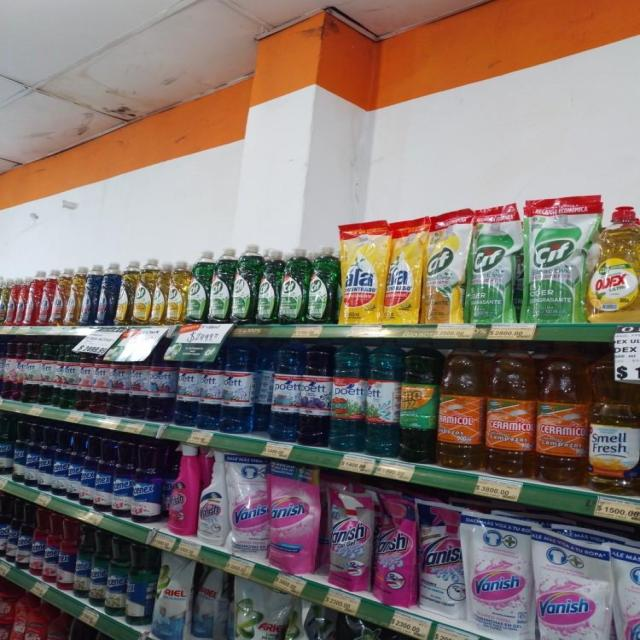ala_conc_amarillo: (66, 265, 81, 326), (0, 276, 7, 326)
ala_conc_azul: (96, 262, 115, 326), (81, 263, 96, 326)
ala_conc_rojo: (52, 267, 66, 326), (38, 268, 52, 326), (18, 272, 30, 326), (26, 270, 36, 326), (8, 274, 18, 326)
ala_sachet_amarillo: (340, 220, 384, 324)
cif_conc_bot_amarilla: (167, 258, 186, 325), (133, 259, 152, 325), (116, 260, 132, 326), (152, 258, 166, 325)
cif_conc_botella_verde: (308, 246, 337, 325), (280, 247, 307, 324), (232, 244, 256, 324), (258, 247, 280, 325), (209, 246, 231, 324), (187, 250, 208, 324)
cif_conc_sachet_amarillo: (424, 208, 466, 324)
cif_conc_sachet_verde: (524, 196, 587, 324), (468, 205, 519, 324)
odex: (589, 205, 640, 321)
